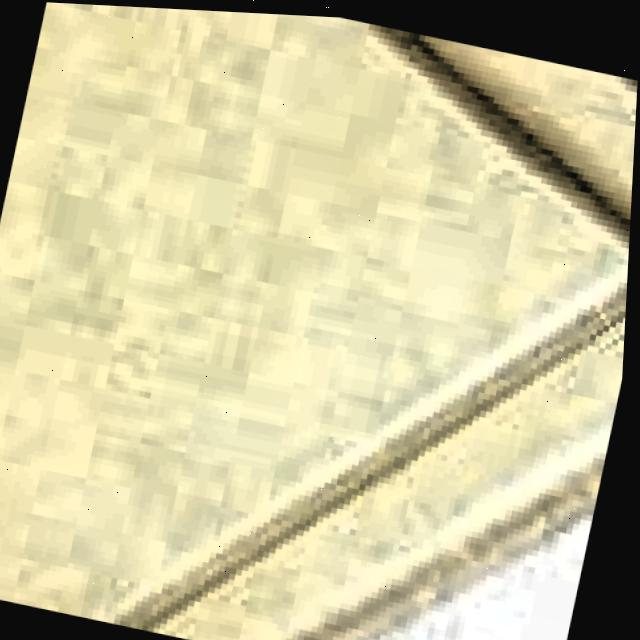paper: (0, 2, 638, 640)
